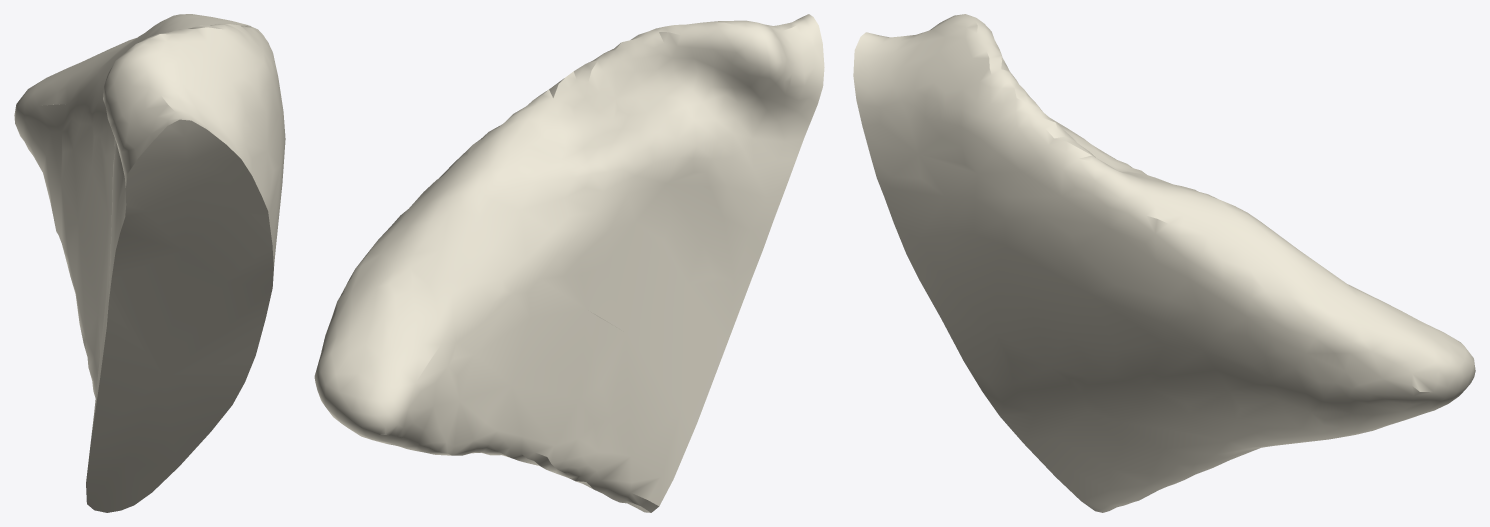
Rendered from fma52906_mm2154.glb.
3 views of the same model, side by side, from view 1: azimuth 30°, elevation 25°; view 2: azimuth 150°, elevation 25°; view 3: azimuth 270°, elevation 25° (orthographic). The views are drawn at different scales.
Visible parts, largest first — view 1: FMA52906_MM2154; view 2: FMA52906_MM2154; view 3: FMA52906_MM2154.
Part boxes in pixels (bbox=[...]): FMA52906_MM2154: bbox=[14, 14, 285, 512]; FMA52906_MM2154: bbox=[314, 14, 824, 512]; FMA52906_MM2154: bbox=[853, 14, 1475, 512].
Bounding box in the file's own units: 0.00873 × 0.0136 × 0.0162.
